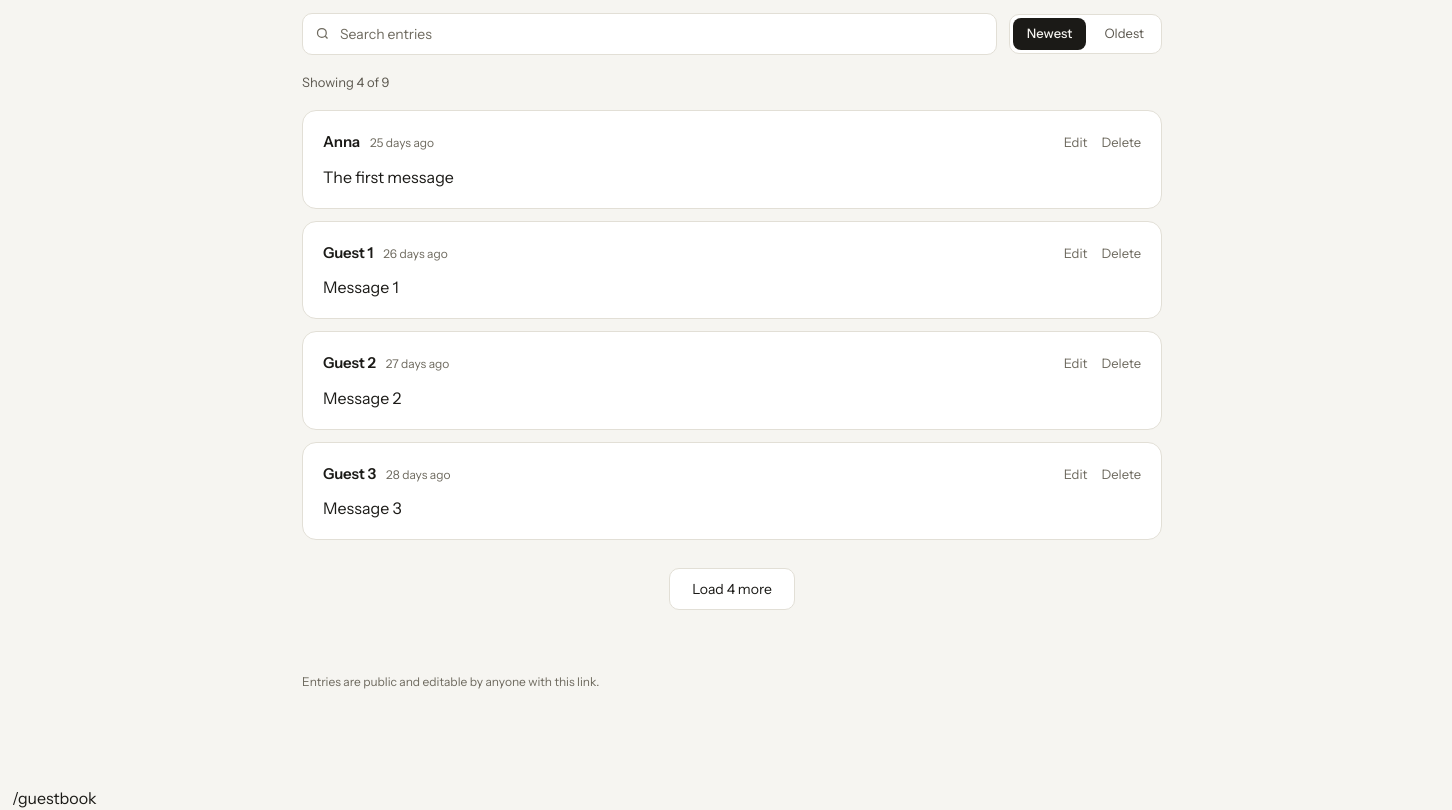
Test: loading more › offers only what is actually left, and stops offering at the end
(page scrolled)
Expected: the text "The first message" is shown, [323,167,454,187]
Note: Nine entries, four shown: four more, then one.
Click the button "Load 4 more": point(732, 589) [669,568,795,610]
(page scrolled)
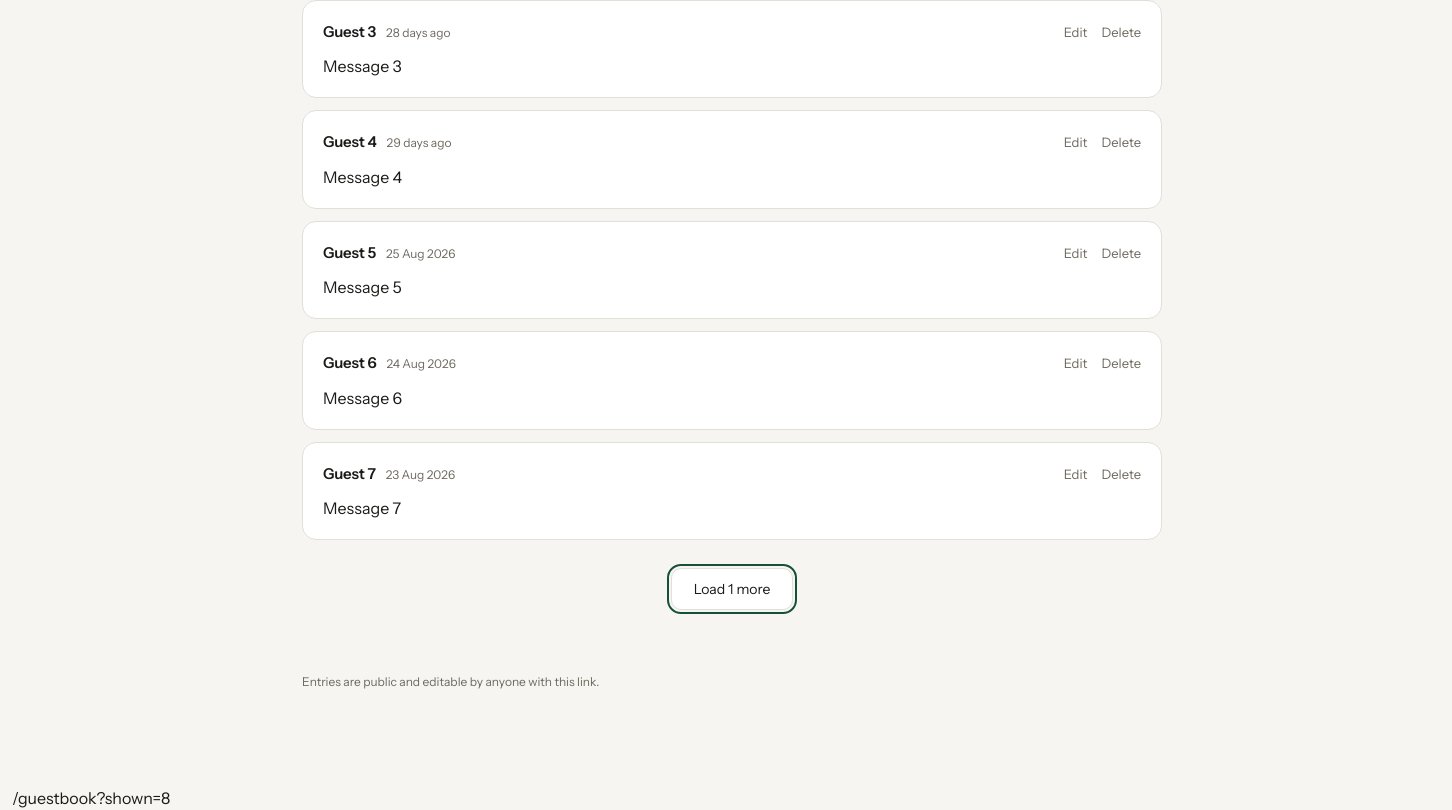
Click the button "Load 1 more": point(732, 589) [671,568,793,610]
(page scrolled)
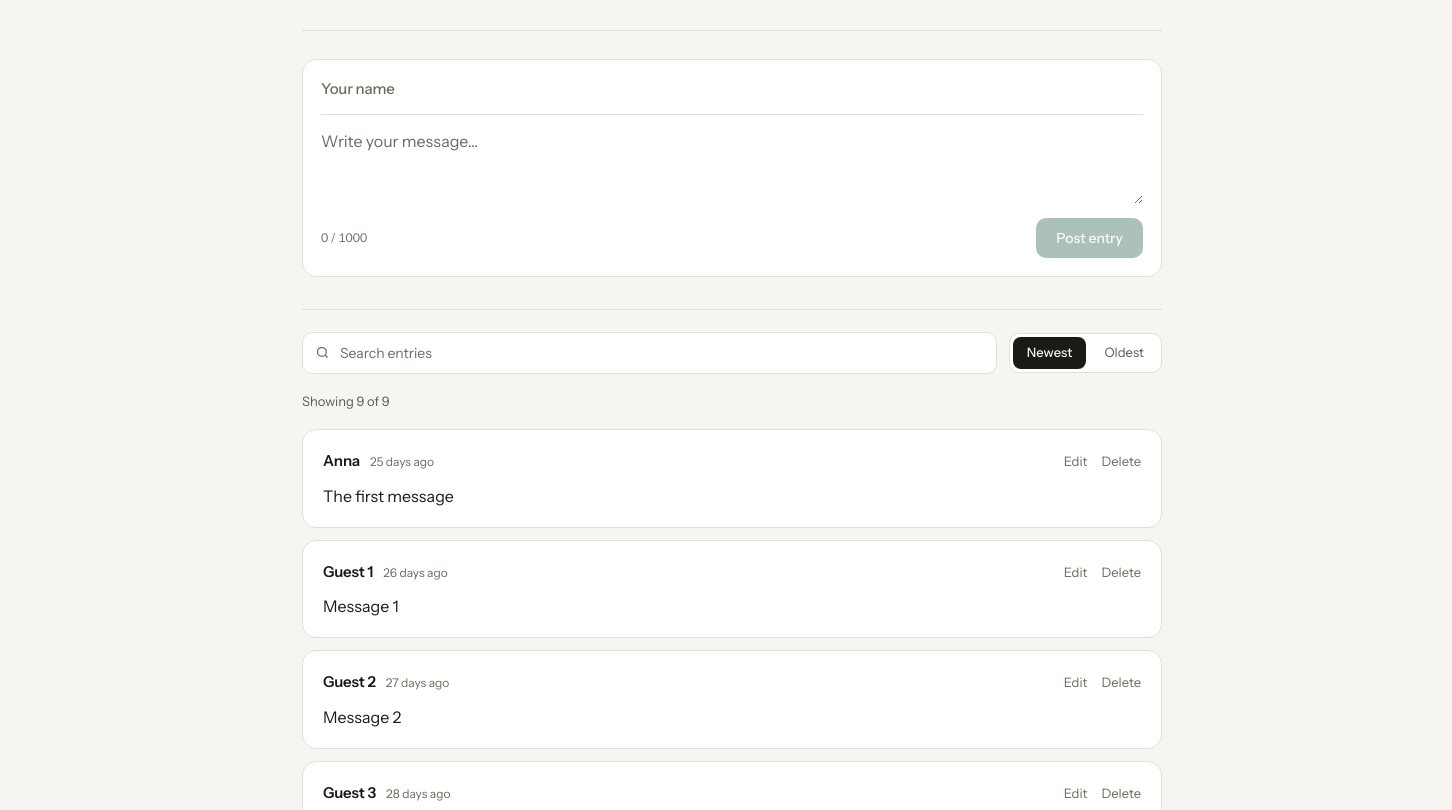
Expected: the button "Load" is gone
Expected: the text "Showing 9 of 9" is shown, [302,393,390,409]
